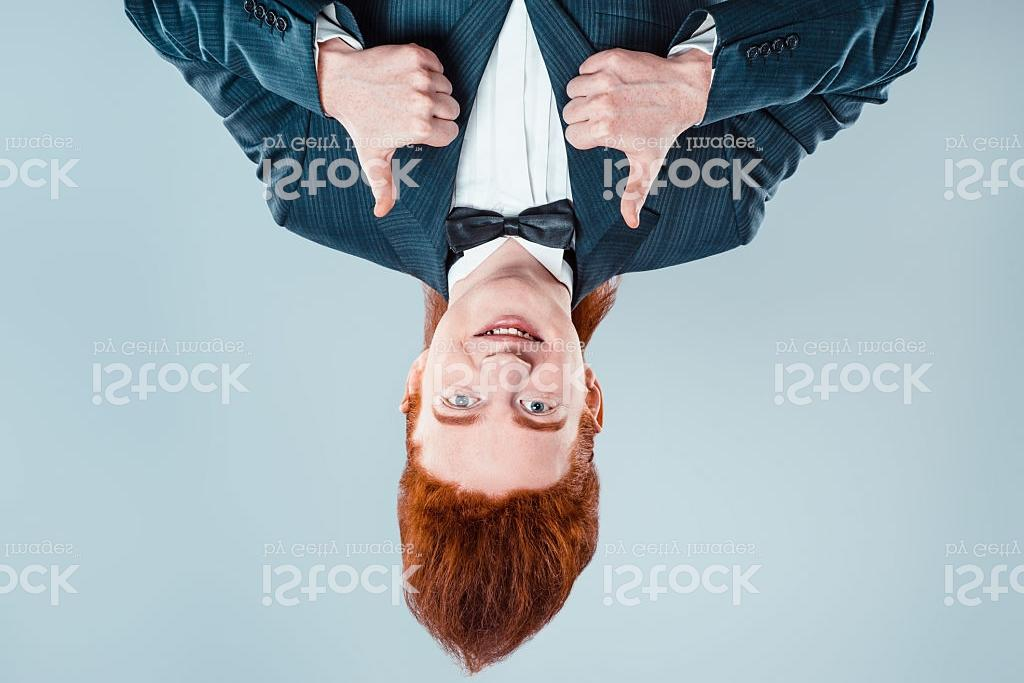thumbsdown: (360, 39, 461, 222), (559, 41, 656, 231)
